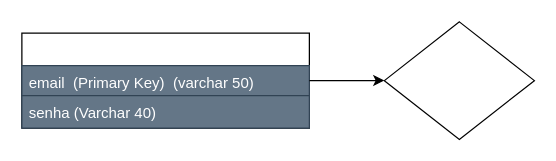
The diagram is 556 pixels wide and 161 high, and some of its shapes have lost their labels. Here are the shapes that lost their labels. From the top down, the box of each, then its label:
(21, 32, 309, 128): login
(383, 21, 534, 139): banco
